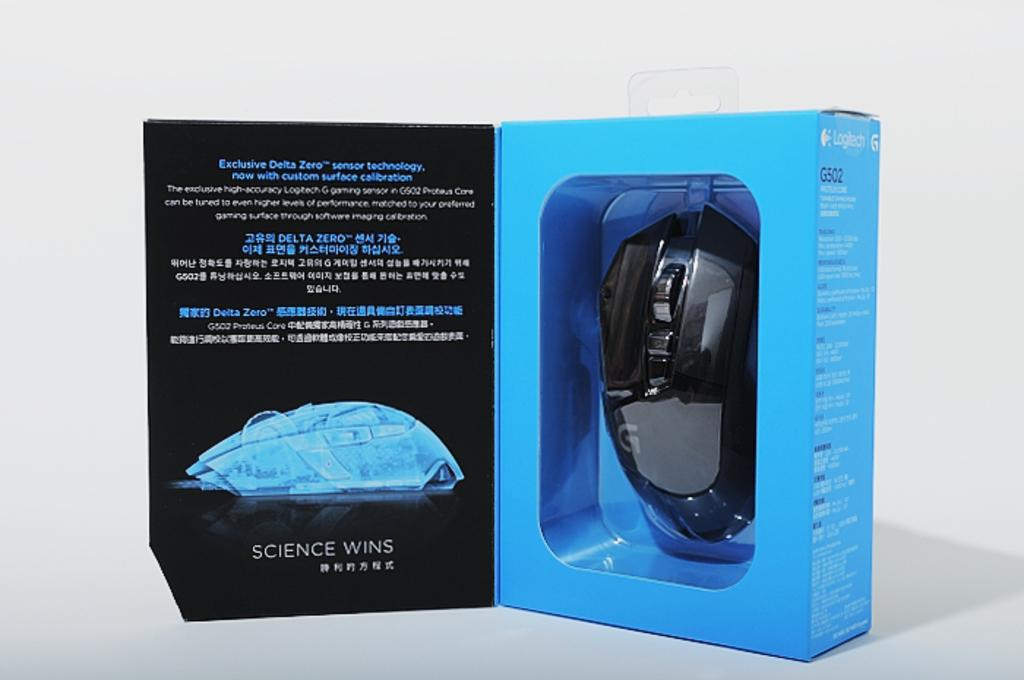Computer-mouse: (592, 200, 758, 540)
